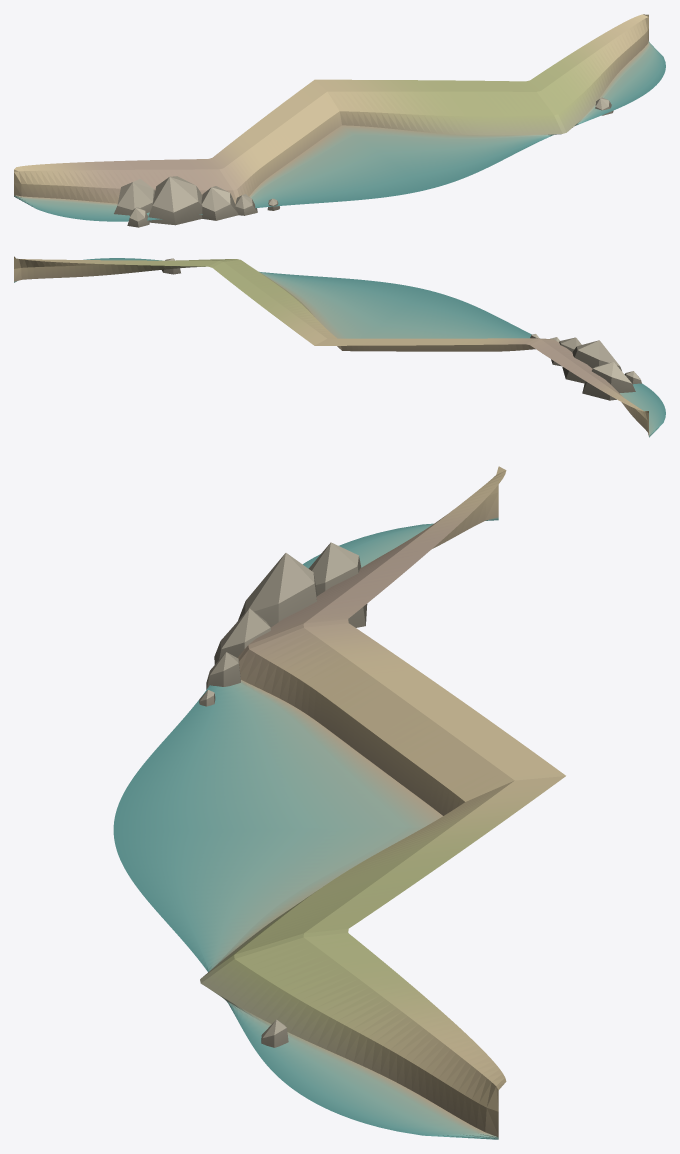
Rendered from SouthernBay.fbx.
3 renders of one model, top to bottom at view 1: azimuth 30°, elevation 25°; view 2: azimuth 150°, elevation 25°; view 3: azimuth 270°, elevation 25°, orthographic. The views are drawn at different scales.
Parts seen in each view (by area): view 1: 跨格浅湾, 岸岩.001, 岸岩, 岸岩.002, 岸岩.003, 岸岩.004; view 2: 跨格浅湾, 岸岩, 岸岩.001; view 3: 跨格浅湾, 岸岩.001, 岸岩, 岸岩.002.
Part boxes in pixels (x1=…): 跨格浅湾: x1=14, y1=14, x2=665, y2=221; 岸岩.001: x1=148, y1=176, x2=202, y2=225; 岸岩: x1=114, y1=179, x2=155, y2=215; 岸岩.002: x1=201, y1=186, x2=238, y2=220; 岸岩.003: x1=235, y1=194, x2=257, y2=215; 岸岩.004: x1=127, y1=207, x2=149, y2=227; 跨格浅湾: x1=14, y1=256, x2=665, y2=437; 岸岩: x1=582, y1=362, x2=635, y2=400; 岸岩.001: x1=562, y1=340, x2=621, y2=383; 跨格浅湾: x1=113, y1=466, x2=565, y2=1139; 岸岩.001: x1=238, y1=553, x2=317, y2=627; 岸岩: x1=308, y1=542, x2=367, y2=627; 岸岩.002: x1=214, y1=608, x2=270, y2=664.
Size of the model in its own units: 346 by 19.85 by 107.
